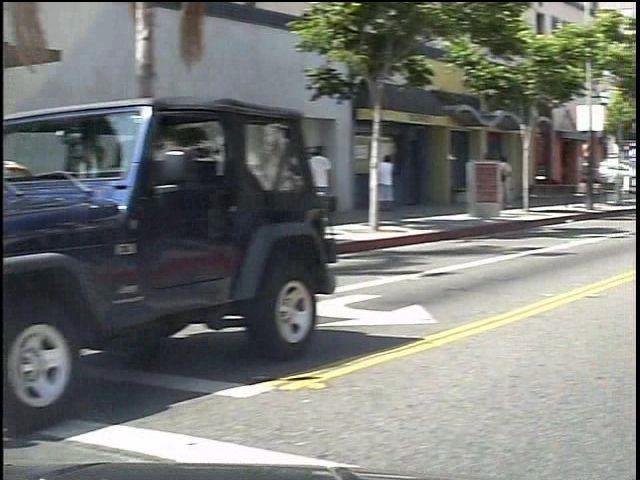person: (320, 140, 354, 235), (390, 143, 414, 226)
